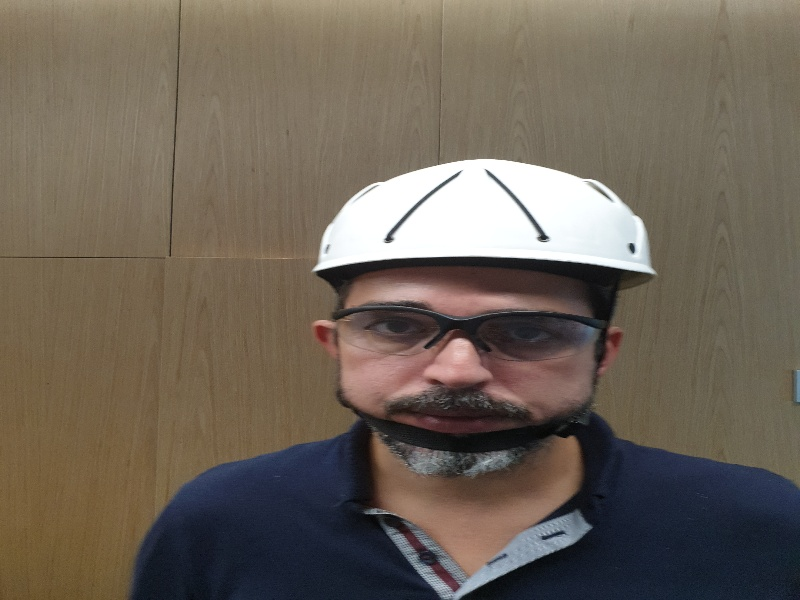Baret: (314, 156, 655, 286)
Gozluk: (332, 306, 609, 368)
